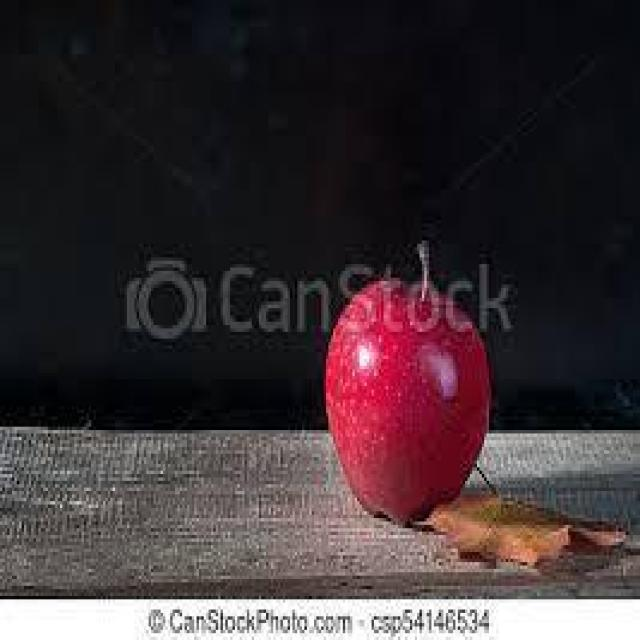maca: (322, 244, 492, 525), (410, 488, 628, 569)
